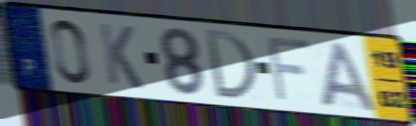0: (48, 18, 91, 86)
8: (158, 26, 207, 98)
A: (319, 39, 380, 114)
D: (202, 27, 260, 103)
F: (264, 34, 313, 105)
K: (96, 20, 146, 92)
